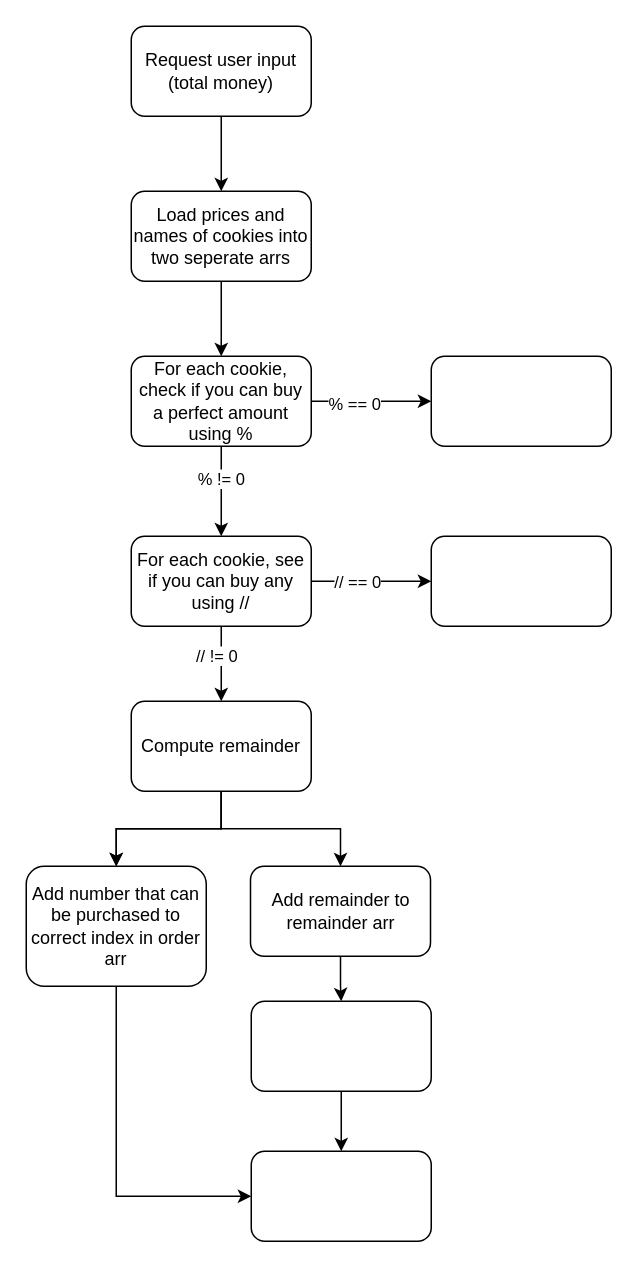
This 638x1268 diagram has some shape labels left out. The box of each missing label's shape, as (x1, y1, x2, y2) in pixels:
Find minimum remainder, keep index: (250, 1000, 431, 1091)
Ignore cookie (break): (430, 535, 611, 626)
Output cookie to buy, exit program: (430, 355, 611, 446)
Use said index to output # of cookie, type of cookie, and remainder: (250, 1150, 431, 1241)
